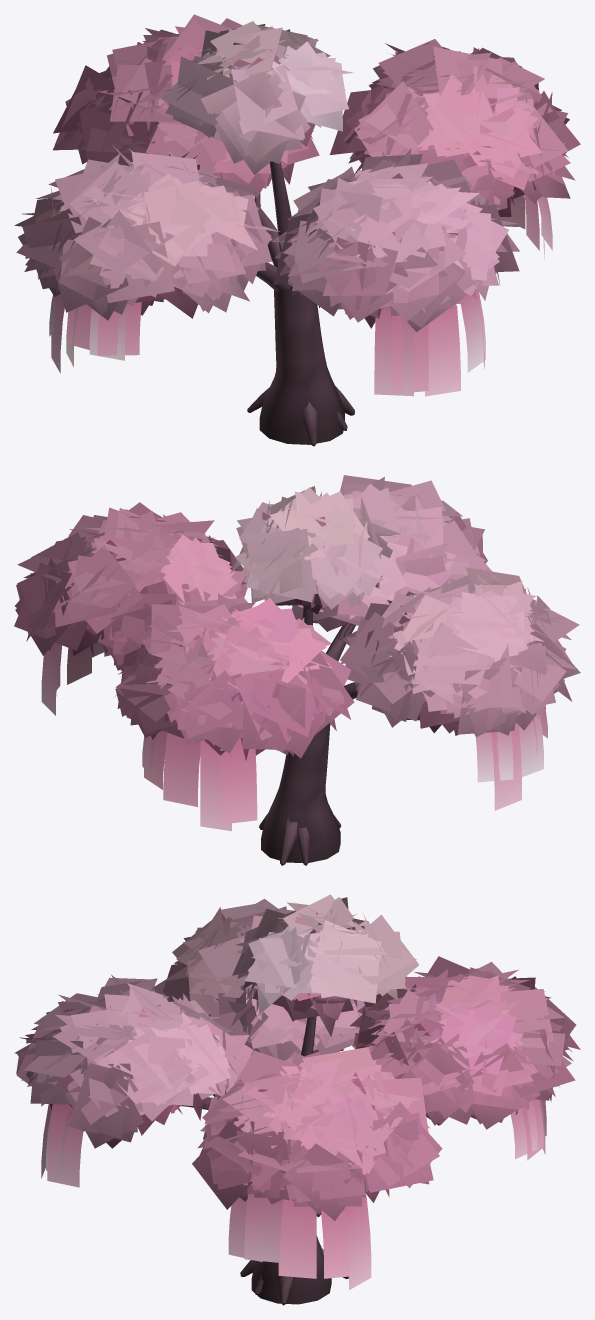
File: tree-village-sakura-v0.glb
The picture shows the model from 3 angles, top to bottom: view 1: azimuth 30°, elevation 25°; view 2: azimuth 150°, elevation 25°; view 3: azimuth 270°, elevation 25°; orthographic projection. The views are drawn at different scales.
Parts seen in each view (by area): view 1: cards_sakura, bark; view 2: cards_sakura, bark; view 3: cards_sakura, bark.
Part boxes in pixels (x1,y1,x2,y2): cards_sakura: (14, 14, 580, 396); bark: (247, 161, 354, 446); cards_sakura: (14, 475, 580, 831); bark: (259, 606, 357, 865); cards_sakura: (14, 894, 580, 1289); bark: (181, 1016, 348, 1305).
Size of the model in its own units: 8.62 by 5.96 by 8.29.
